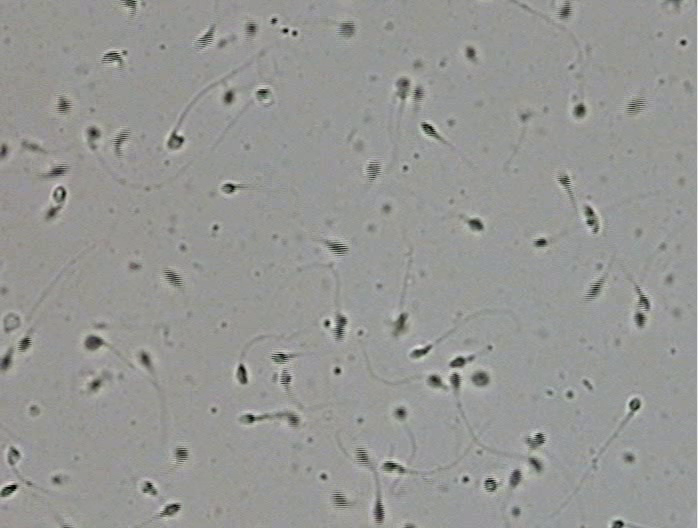S: (584, 278, 604, 302), (583, 204, 598, 232), (332, 315, 348, 340), (326, 240, 349, 257), (524, 431, 546, 448), (112, 129, 130, 148), (163, 269, 182, 287), (626, 97, 645, 115), (392, 313, 407, 335), (332, 490, 348, 510), (366, 160, 381, 181), (396, 76, 409, 100), (197, 30, 214, 48), (337, 21, 355, 38), (373, 500, 385, 525), (102, 51, 123, 65), (167, 133, 184, 150), (56, 97, 72, 115), (420, 121, 438, 137), (174, 446, 189, 465), (48, 164, 68, 178), (637, 292, 651, 312), (162, 503, 181, 517), (508, 469, 522, 488), (556, 3, 572, 19), (17, 336, 32, 353), (141, 481, 158, 496), (355, 447, 370, 464), (236, 364, 248, 385), (7, 447, 21, 465), (270, 352, 290, 364), (528, 456, 543, 472), (85, 335, 102, 349), (572, 102, 586, 119), (85, 126, 100, 141), (1, 484, 18, 497), (472, 372, 489, 385), (53, 186, 66, 203), (280, 368, 292, 386), (557, 173, 571, 188), (410, 347, 429, 358), (412, 86, 423, 105), (468, 218, 484, 231), (634, 311, 647, 327), (484, 477, 497, 492), (381, 461, 397, 473), (449, 372, 461, 388), (450, 356, 466, 368), (256, 88, 271, 100), (139, 352, 151, 367), (287, 413, 299, 428), (629, 397, 641, 411), (533, 237, 548, 248), (46, 207, 59, 219), (88, 379, 101, 391), (428, 375, 441, 387), (223, 90, 234, 104), (222, 183, 236, 194), (1, 356, 12, 370), (240, 414, 255, 424), (246, 22, 257, 35), (465, 46, 476, 59), (395, 408, 406, 419), (120, 1, 137, 8), (1, 144, 8, 158), (612, 520, 624, 528), (404, 525, 413, 528)
